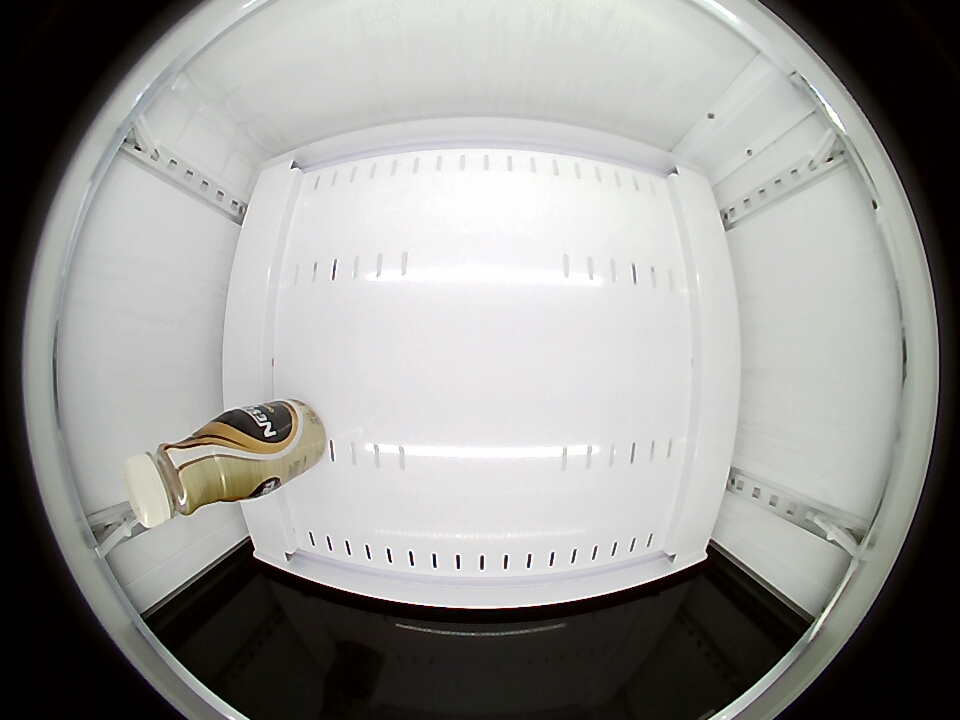kafei: (122, 413, 268, 527)
